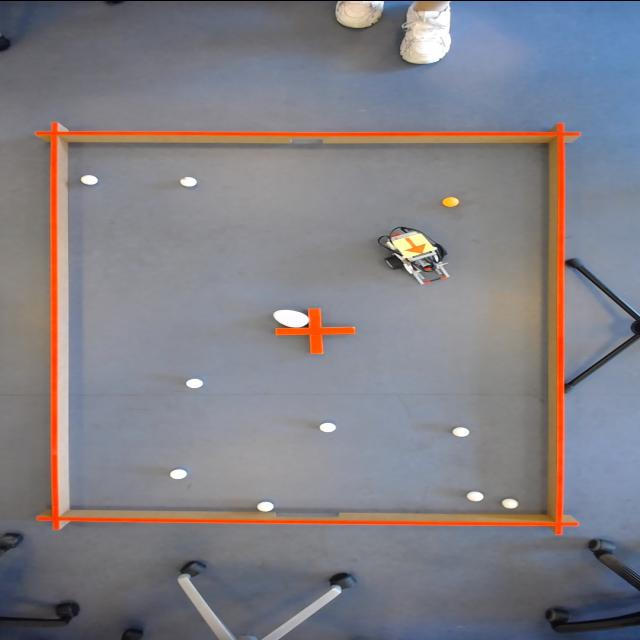cross: (273, 306, 358, 355)
egg: (266, 308, 310, 328)
orange_ball: (439, 195, 463, 207)
robot: (390, 230, 438, 258)
white_ball: (251, 499, 277, 512), (463, 489, 489, 502), (448, 424, 472, 438), (497, 496, 521, 510), (184, 376, 208, 390), (76, 173, 100, 186), (179, 174, 202, 187), (316, 421, 341, 432), (167, 466, 189, 478)
